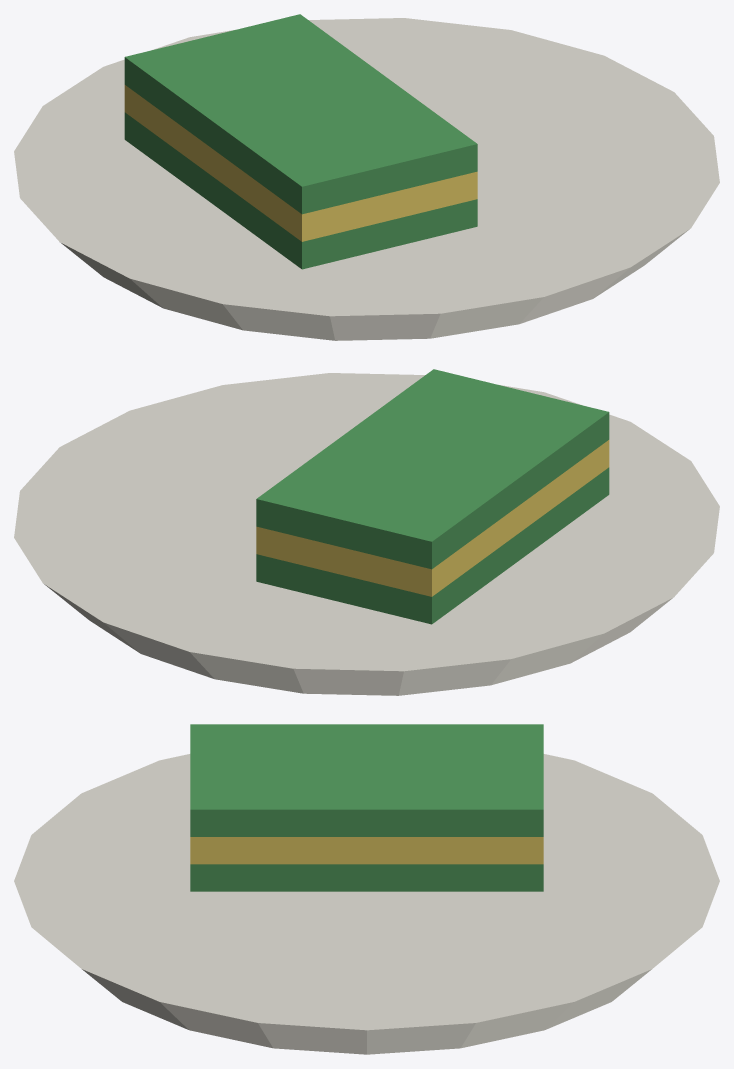
The model's file is dia_banh_da_lon.obj.
The picture shows the model from 3 angles, top to bottom: view 1: azimuth 30°, elevation 25°; view 2: azimuth 150°, elevation 25°; view 3: azimuth 270°, elevation 25°; orthographic projection.
Bounding box in the file's own units: 0.28 × 0.056 × 0.28.
